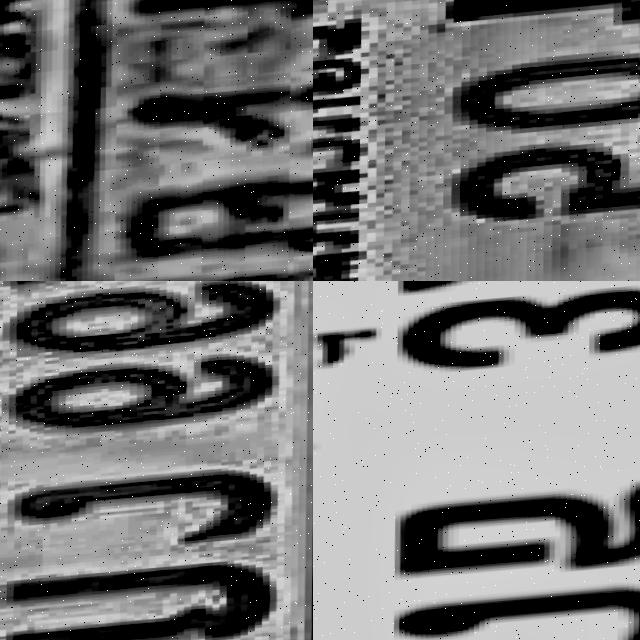license-plate: (313, 281, 640, 640), (0, 281, 313, 640), (313, 0, 640, 281), (0, 0, 313, 281)
